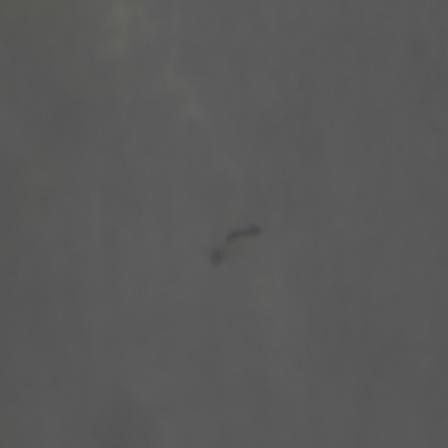Jentik-Nyamuk: (220, 218, 261, 249)
